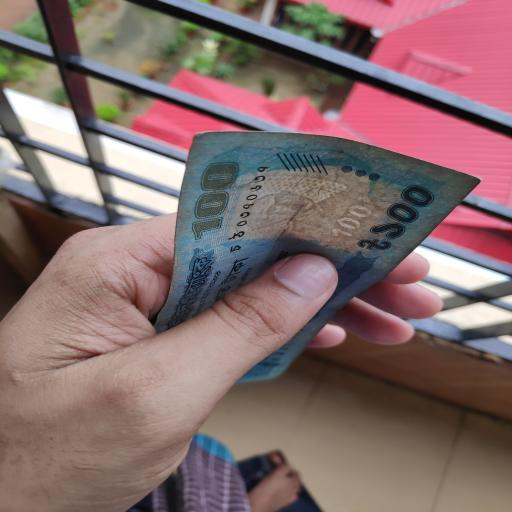100taka: (157, 135, 478, 385)
